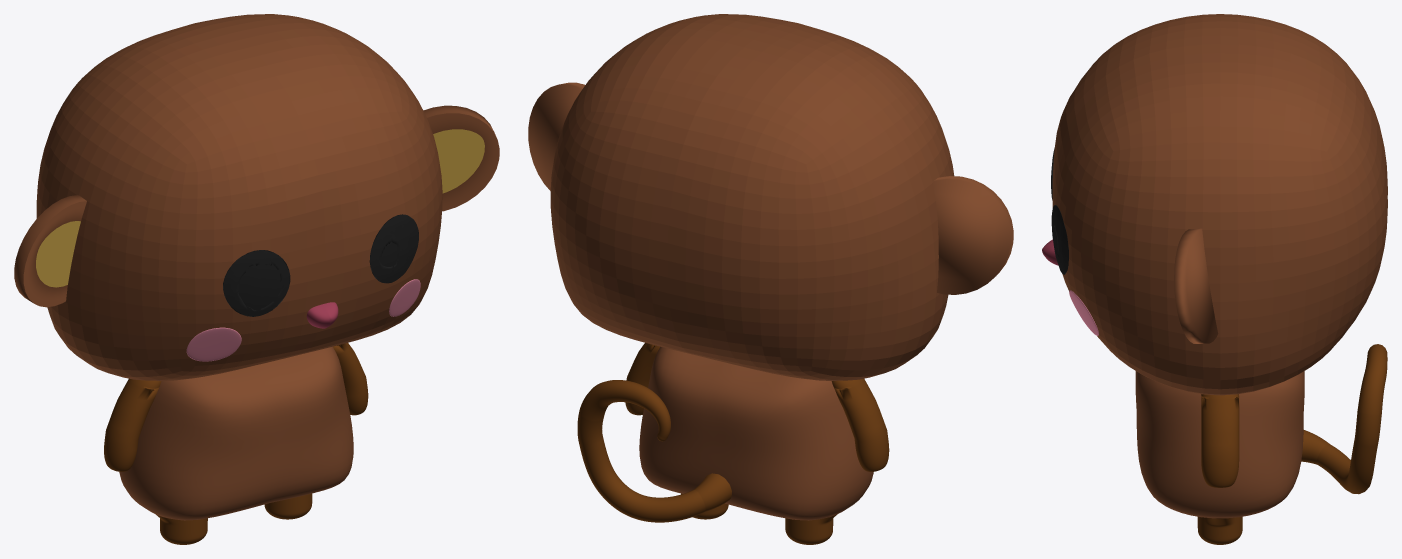
The model's file is 17.05.Affe.glb.
The picture shows the model from 3 angles, left to right: view 1: azimuth 30°, elevation 25°; view 2: azimuth 150°, elevation 25°; view 3: azimuth 270°, elevation 25°; orthographic projection. The views are drawn at different scales.
Visible parts, largest first — view 1: Cube, Cube.001, Cylinder.003, Plane, Cylinder.001, Plane.001, Cylinder, Cube.005; view 2: Cube, Cube.001, Cylinder.003, BézierCurve, Cylinder.001, Cylinder; view 3: Cube, Cube.001, BézierCurve, Cylinder.003, Cylinder.001, Cylinder, Plane, Plane.001.
Boxes of the visible parts, bbox=[...] form: Cube: bbox=[36, 14, 442, 380]; Cube.001: bbox=[119, 346, 353, 520]; Cylinder.003: bbox=[14, 105, 499, 307]; Plane: bbox=[223, 214, 418, 316]; Cylinder.001: bbox=[104, 343, 368, 471]; Plane.001: bbox=[186, 279, 420, 361]; Cylinder: bbox=[156, 493, 312, 544]; Cube.005: bbox=[306, 302, 338, 328]; Cube: bbox=[550, 14, 954, 380]; Cube.001: bbox=[639, 346, 873, 520]; Cylinder.003: bbox=[528, 82, 1013, 294]; BézierCurve: bbox=[577, 380, 731, 522]; Cylinder.001: bbox=[625, 343, 889, 471]; Cylinder: bbox=[681, 493, 837, 544]; Cube: bbox=[1052, 14, 1387, 395]; Cube.001: bbox=[1135, 371, 1304, 518]; BézierCurve: bbox=[1301, 344, 1387, 494]; Cylinder.003: bbox=[1174, 228, 1218, 343]; Cylinder.001: bbox=[1201, 394, 1239, 487]; Cylinder: bbox=[1197, 516, 1242, 544]; Plane: bbox=[1051, 148, 1068, 274]; Plane.001: bbox=[1069, 290, 1098, 335].
Size of the model in its own units: 6.22 by 5.99 by 3.98.
